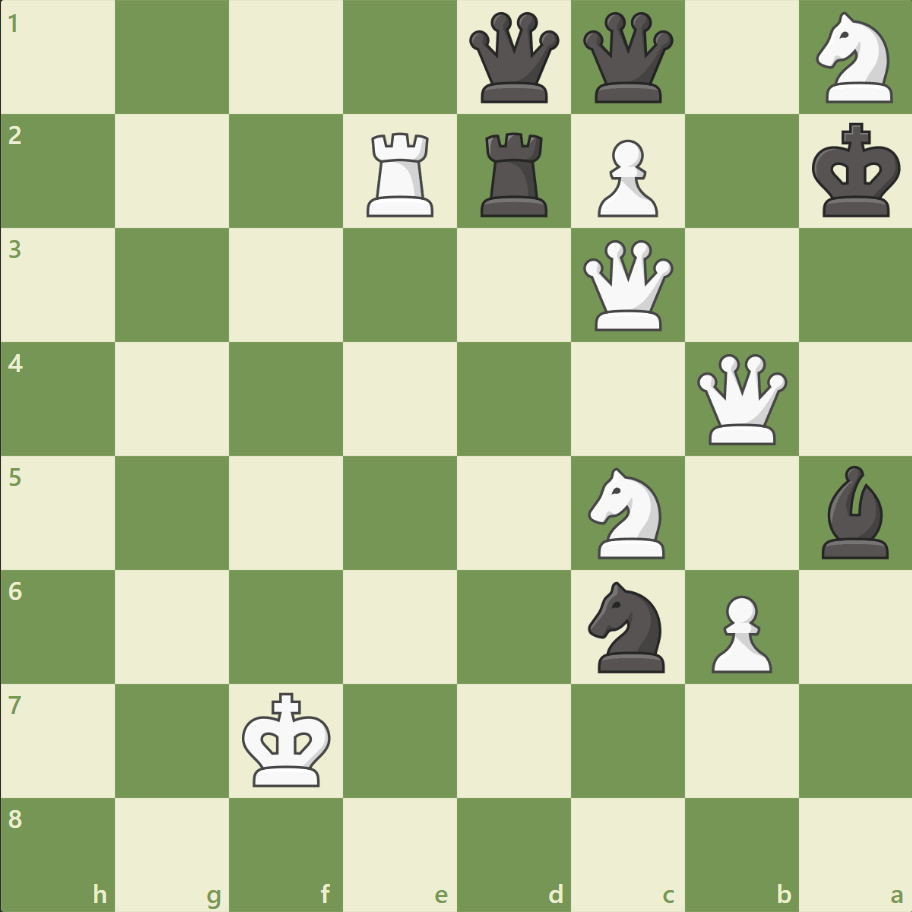K: (238, 685, 338, 793)
N: (579, 461, 676, 564), (806, 7, 903, 110)
P: (701, 586, 776, 677), (588, 132, 662, 223)
Q: (691, 349, 790, 449), (578, 236, 677, 335)
R: (360, 125, 442, 222)
b: (812, 460, 896, 563)
k: (806, 117, 906, 225)
n: (579, 575, 676, 677)
q: (578, 9, 677, 108), (464, 9, 563, 108)
r: (473, 125, 556, 222)
